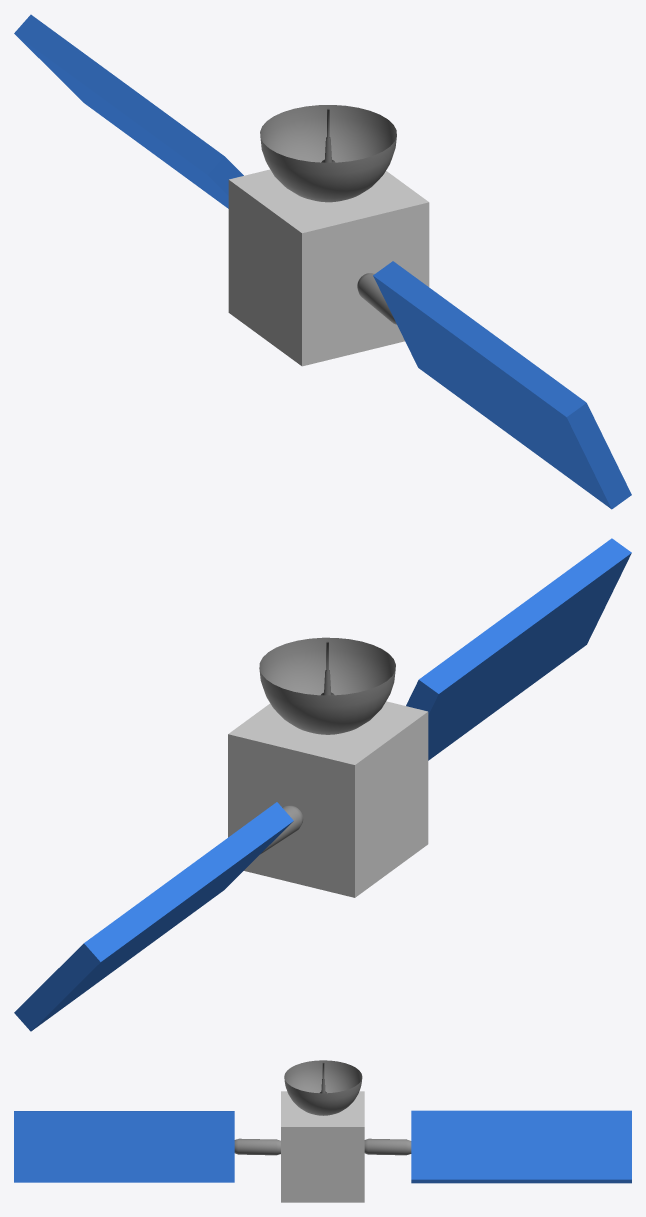
File: tp2_satellite.glb
The picture shows the model from 3 angles, top to bottom: view 1: azimuth 30°, elevation 25°; view 2: azimuth 150°, elevation 25°; view 3: azimuth 270°, elevation 25°; orthographic projection. The views are drawn at different scales.
Visible parts, largest first — view 1: Cube, Cube.001, Sphere, Cube.002, Cylinder; view 2: Cube, Cube.001, Cube.002, Sphere; view 3: Cube.002, Cube.001, Cube, Sphere, Cylinder.002, Cylinder.
Part boxes in pixels (<box>): Cube: <box>228,169,429,366</box>; Cube.001: <box>373,261,631,509</box>; Sphere: <box>260,105,396,202</box>; Cube.002: <box>14,14,243,208</box>; Cylinder: <box>357,273,396,324</box>; Cube: <box>228,701,428,897</box>; Cube.001: <box>406,538,631,760</box>; Cube.002: <box>14,802,293,1031</box>; Sphere: <box>259,637,395,734</box>; Cube.002: <box>411,1110,631,1183</box>; Cube.001: <box>14,1111,234,1182</box>; Cube: <box>281,1091,364,1202</box>; Sphere: <box>284,1060,362,1115</box>; Cylinder.002: <box>364,1138,411,1155</box>; Cylinder: <box>234,1138,280,1155</box>.
Size of the model in its own units: 1.71 by 2.76 by 12.65.
